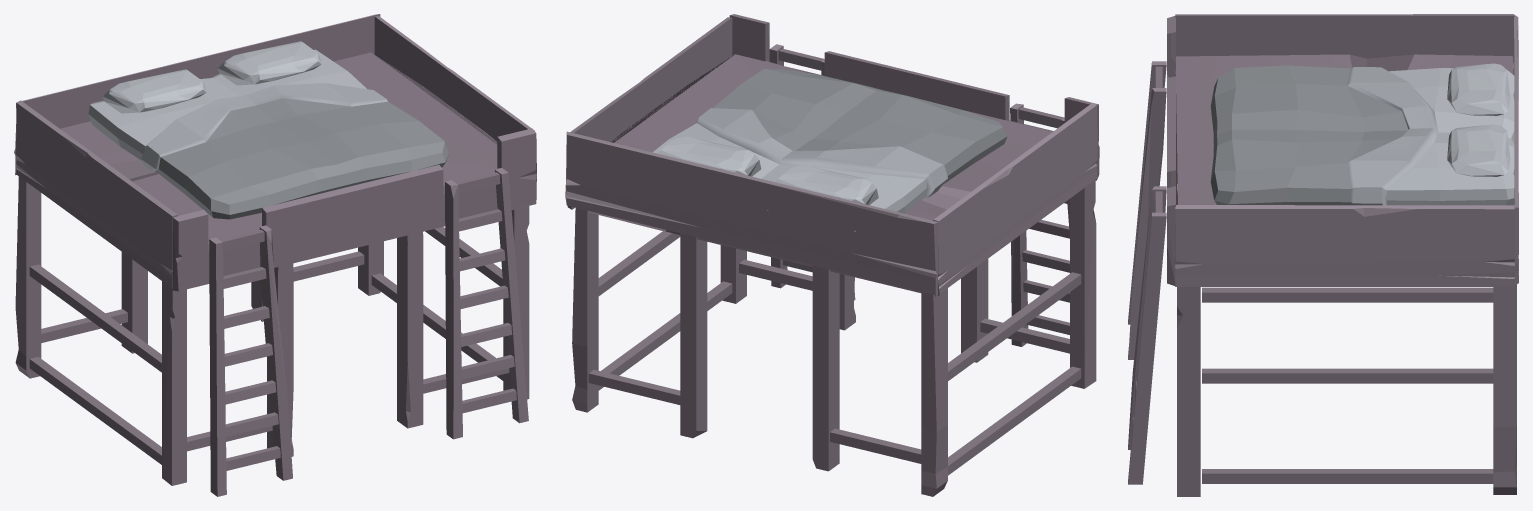
File: Bed_Dubble-high.fbx
The picture shows the model from 3 angles, left to right: view 1: azimuth 30°, elevation 25°; view 2: azimuth 150°, elevation 25°; view 3: azimuth 270°, elevation 25°; orthographic projection. The views are drawn at different scales.
Visible parts, largest first — view 1: Bed_Dubble_high; view 2: Bed_Dubble_high; view 3: Bed_Dubble_high.
Boxes of the visible parts, x1,y1,x2,y2 form: Bed_Dubble_high: (14,14,536,496); Bed_Dubble_high: (565,14,1099,496); Bed_Dubble_high: (1128,14,1518,496).
Size of the model in its own units: 3.01 by 2.13 by 2.56.
1 material, 1 textured.
